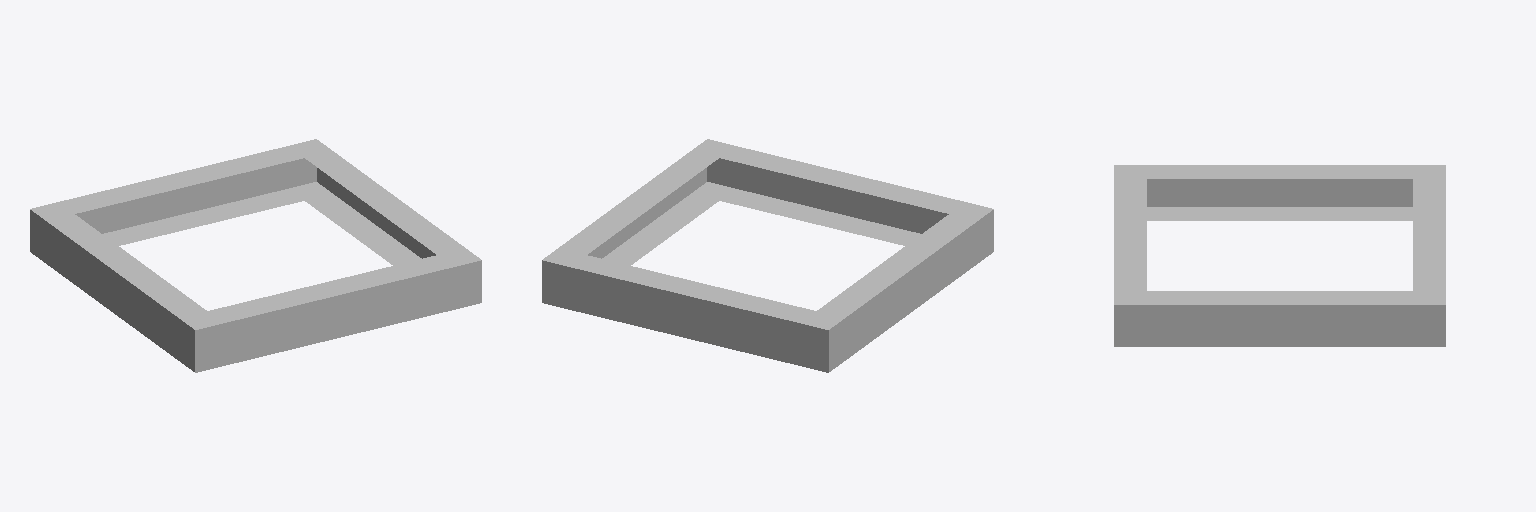
File: targetpos.obj
3 renders of one model, left to right at view 1: azimuth 30°, elevation 25°; view 2: azimuth 150°, elevation 25°; view 3: azimuth 270°, elevation 25°, orthographic.
Parts seen in each view (by area): view 1: pCube1; view 2: pCube1; view 3: pCube1.
Part boxes in pixels (x1,y1,x2,y2): pCube1: (30,139,481,372); pCube1: (542,139,993,372); pCube1: (1114,165,1445,346).
Size of the model in its own units: 2.5 by 0.3557 by 2.5.